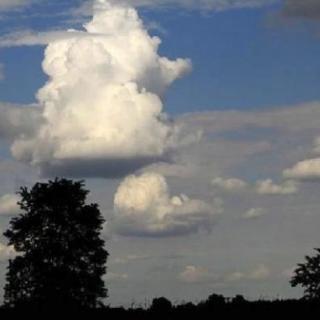Cirrostratus: (0, 0, 226, 237)
